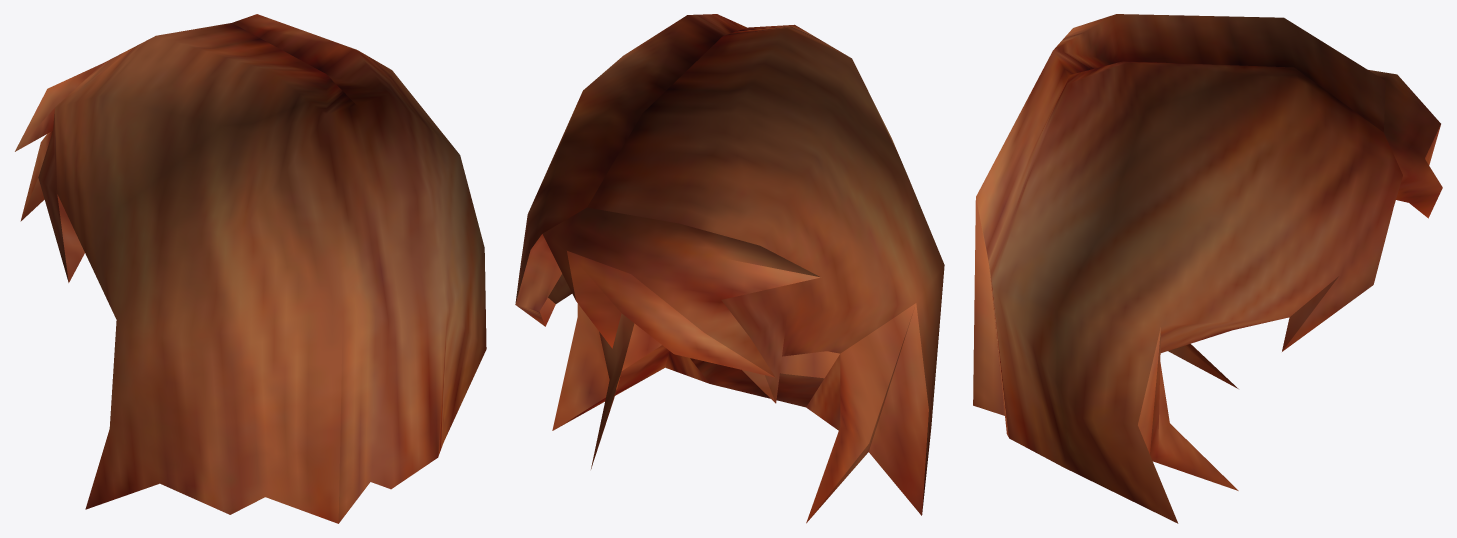
Rendered from GenFemHair03.obj.
The picture shows the model from 3 angles, left to right: view 1: azimuth 30°, elevation 25°; view 2: azimuth 150°, elevation 25°; view 3: azimuth 270°, elevation 25°; orthographic projection. The views are drawn at different scales.
Visible parts, largest first — view 1: material_0; view 2: material_0; view 3: material_0.
Part boxes in pixels (x1,y1,x2,y2): material_0: (15,14,486,523); material_0: (515,14,944,523); material_0: (973,14,1442,523).
Bounding box in the file's own units: 21.36 × 23.89 × 24.51.
Materials: 1 (1 with a texture image).
